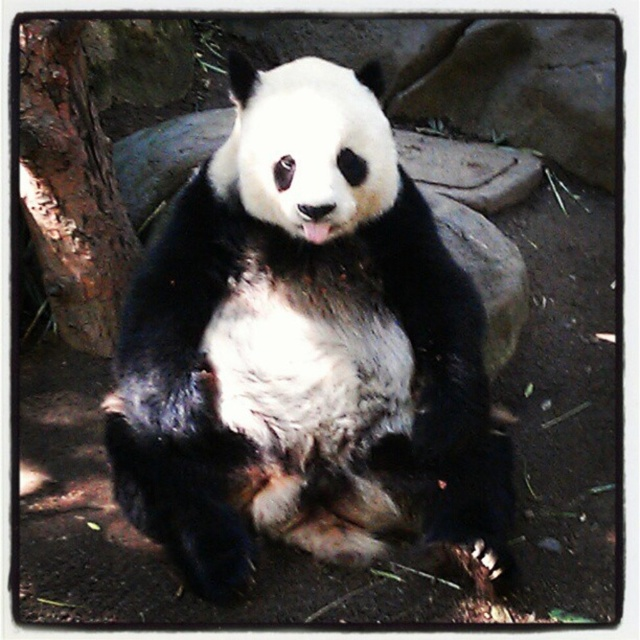Panda: (100, 45, 521, 601)
